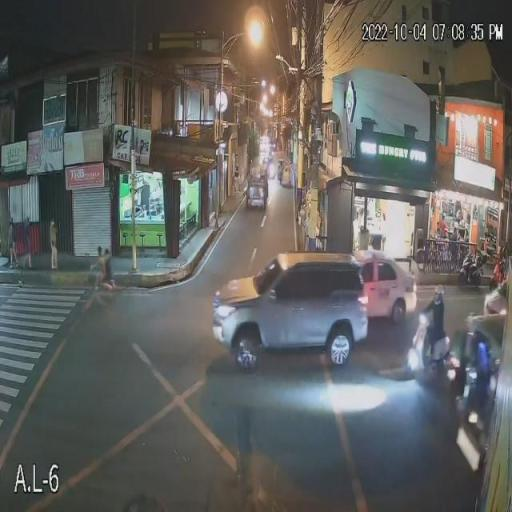helmet: (430, 283, 446, 308)
motorcycle: (402, 328, 454, 377)
rider: (427, 304, 447, 368)
